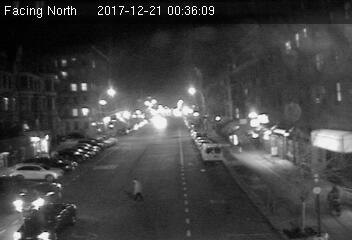car: (10, 202, 80, 240), (16, 178, 64, 212)
pedestrian: (130, 175, 143, 202)
truck: (200, 143, 224, 165)
